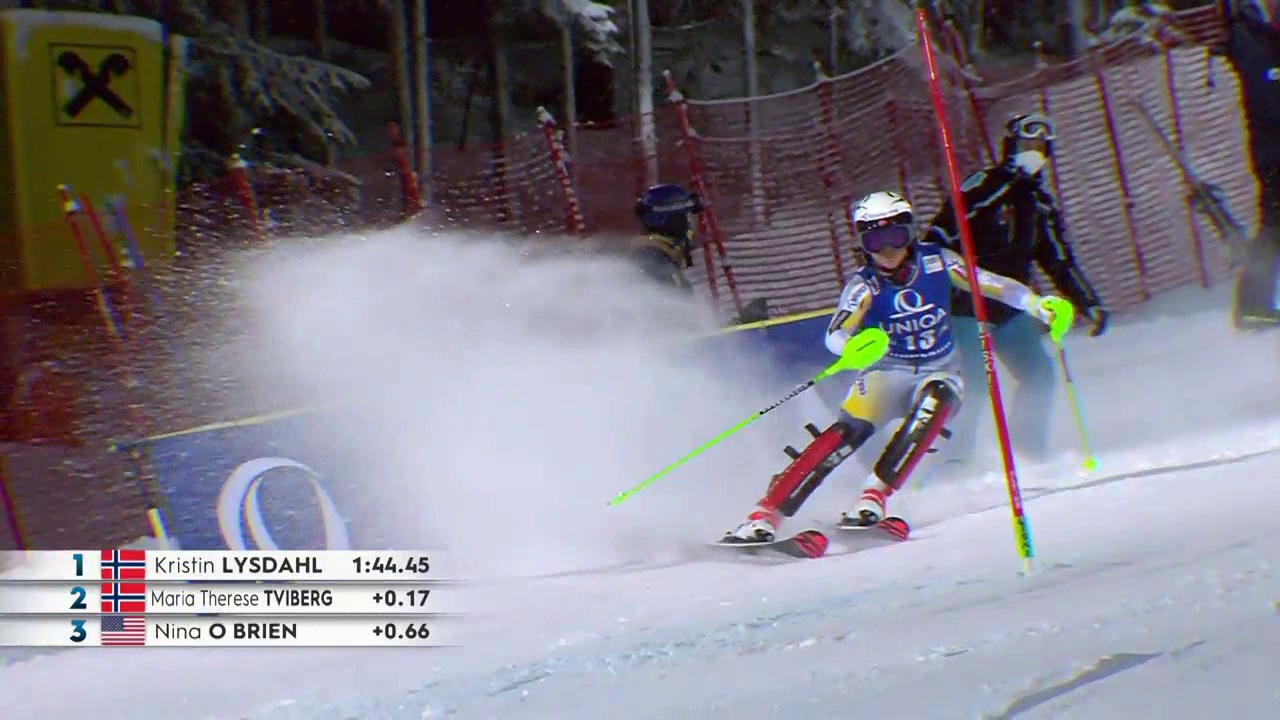raiffeisen: (50, 38, 143, 137)
uniqa: (877, 286, 951, 347)
